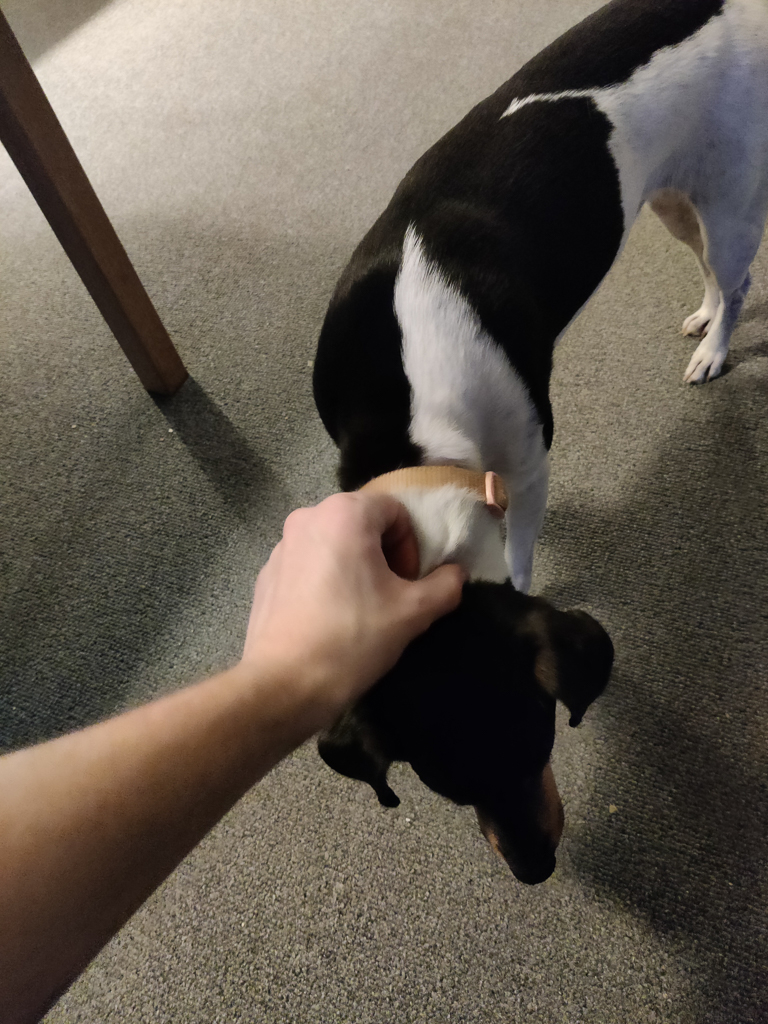Dog: (266, 0, 768, 893)
Humanoid: (0, 469, 473, 1024)
